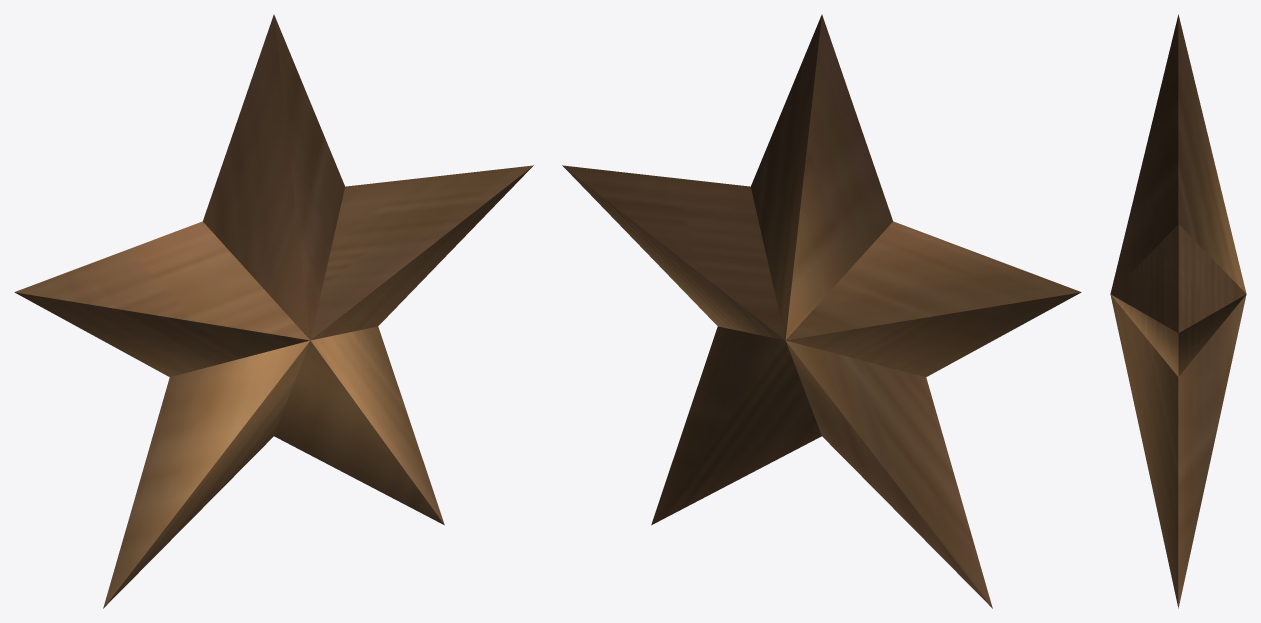
Rendered from enemy01.obj.
3 views of the same model, side by side, from view 1: azimuth 30°, elevation 25°; view 2: azimuth 150°, elevation 25°; view 3: azimuth 270°, elevation 25° (orthographic). The views are drawn at different scales.
Parts seen in each view (by area): view 1: Cube; view 2: Cube; view 3: Cube.
Boxes of the visible parts, box(x1,y1,x2,y2) form: Cube: box(14, 14, 533, 608); Cube: box(562, 14, 1081, 608); Cube: box(1110, 14, 1246, 608).
Bounding box in the file's own units: 7.34 × 7.46 × 1.78.
1 material, 1 textured.
